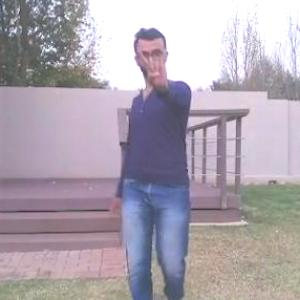takeoff-hand: (140, 40, 180, 90)
